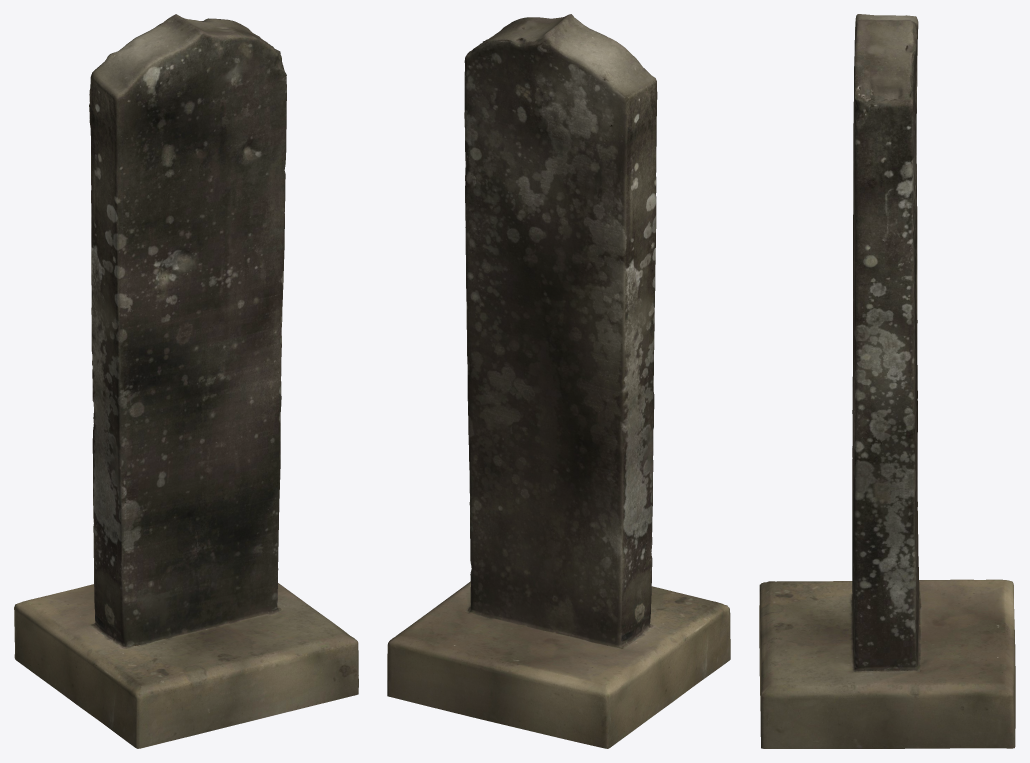
File: MysonMuseum_biadatheki1203msd316.glb
3 renders of one model, left to right at view 1: azimuth 30°, elevation 25°; view 2: azimuth 150°, elevation 25°; view 3: azimuth 270°, elevation 25°, orthographic. The views are drawn at different scales.
Visible parts, largest first — view 1: remeshMysonMuseum_biadatheki1203msd316; view 2: remeshMysonMuseum_biadatheki1203msd316; view 3: remeshMysonMuseum_biadatheki1203msd316.
Part boxes in pixels (bbox=[...]): remeshMysonMuseum_biadatheki1203msd316: bbox=[14, 14, 358, 748]; remeshMysonMuseum_biadatheki1203msd316: bbox=[387, 14, 730, 748]; remeshMysonMuseum_biadatheki1203msd316: bbox=[759, 14, 1015, 748].
Bounding box in the file's own units: 0.7924 × 2.23 × 0.7671.
Materials: 1 (1 with a texture image).
